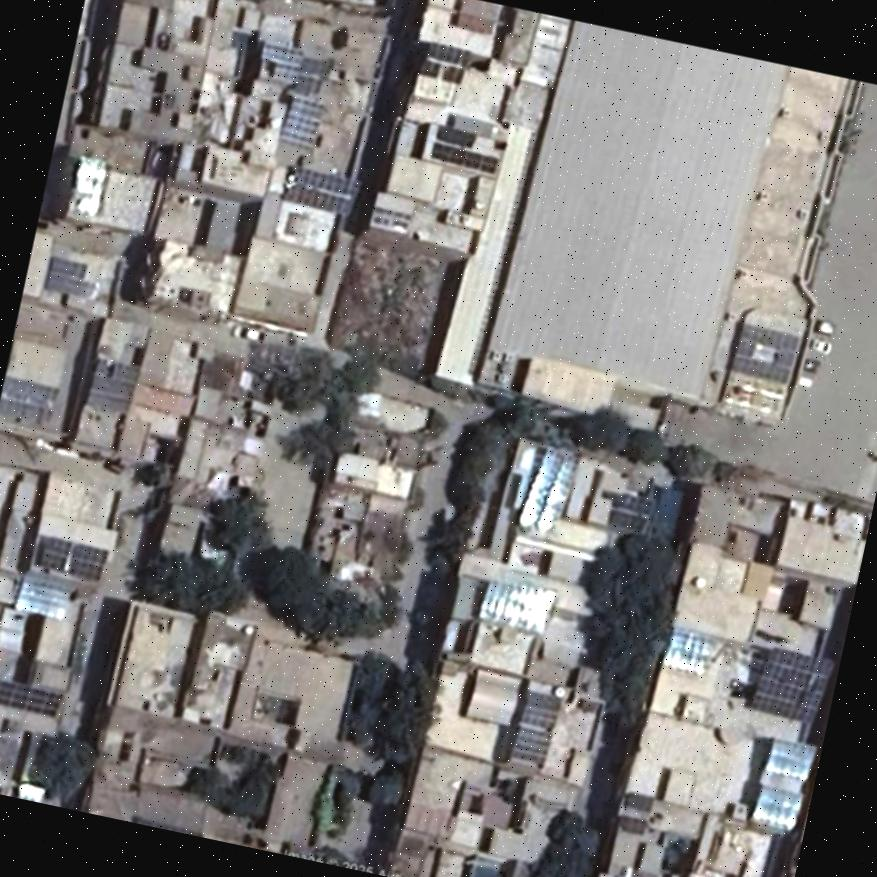Solarpanel: (748, 645, 832, 721), (517, 445, 578, 530), (476, 579, 555, 631), (729, 325, 798, 381), (289, 166, 360, 213), (38, 538, 106, 579), (11, 573, 70, 617), (278, 91, 322, 148), (660, 625, 710, 674), (752, 783, 802, 829), (429, 139, 496, 172), (0, 678, 61, 714), (765, 734, 814, 778), (255, 39, 302, 81), (509, 724, 549, 764), (426, 41, 470, 62)
